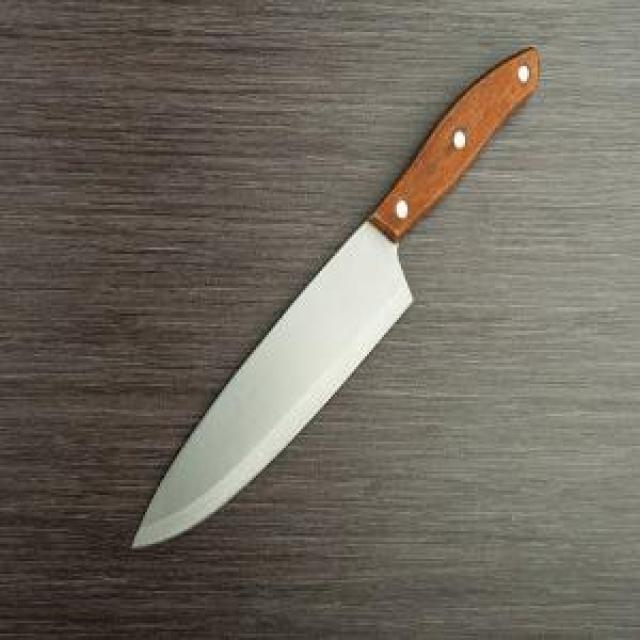knife: (128, 47, 543, 593)
